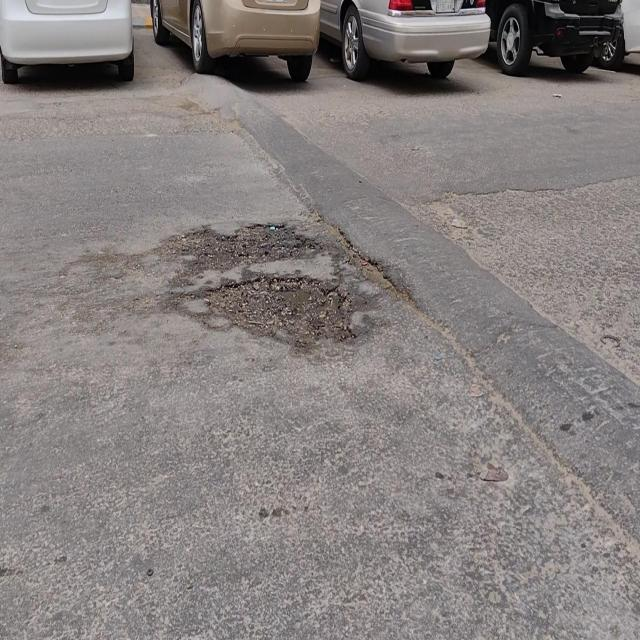Pothole: (192, 76, 640, 542), (205, 278, 356, 347), (175, 224, 320, 273)
